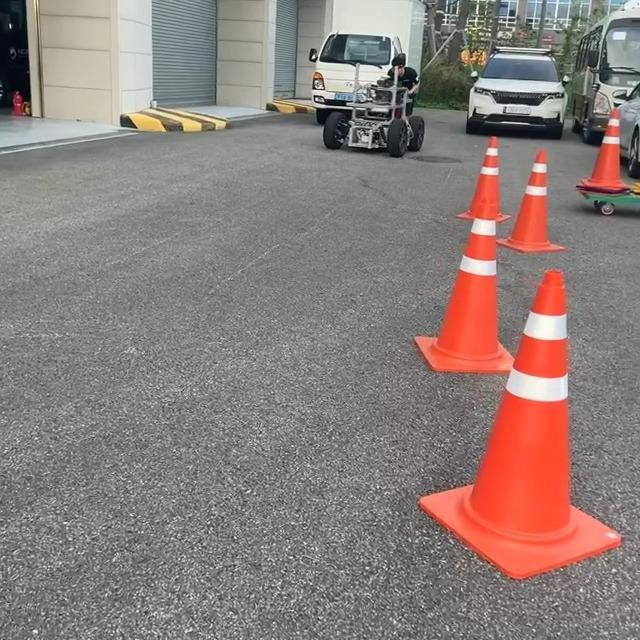fallen_object: (403, 262, 640, 584), (397, 192, 524, 370), (432, 126, 561, 266), (579, 90, 640, 196)
